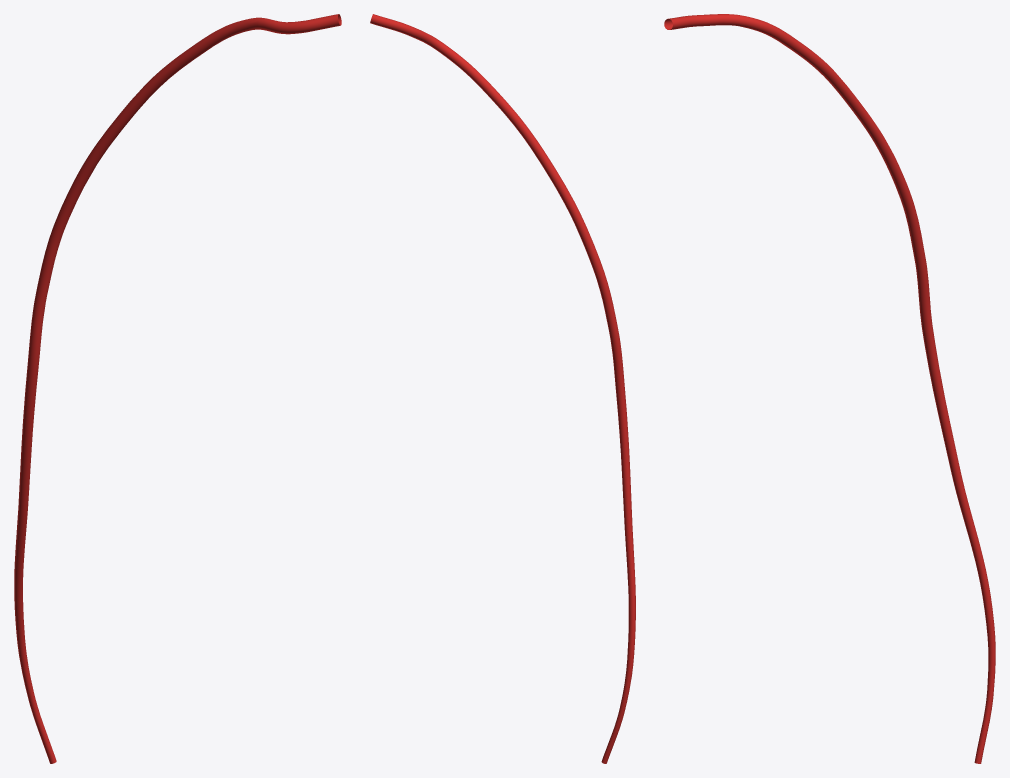
Rendered from circulatorio-superficial-branch-of-transverse-cervical-artery-l.glb.
3 renders of one model, left to right at view 1: azimuth 30°, elevation 25°; view 2: azimuth 210°, elevation 25°; view 3: azimuth 270°, elevation 25°, orthographic. The views are drawn at different scales.
Parts seen in each view (by area): view 1: (Superficial branch of transverse cervical artery).l; view 2: (Superficial branch of transverse cervical artery).l; view 3: (Superficial branch of transverse cervical artery).l.
Part boxes in pixels (<box>): (Superficial branch of transverse cervical artery).l: <box>14,14,341,763</box>; (Superficial branch of transverse cervical artery).l: <box>370,14,635,763</box>; (Superficial branch of transverse cervical artery).l: <box>664,14,995,763</box>.
Bounding box in the file's own units: 0.0295 × 0.1305 × 0.0488.
